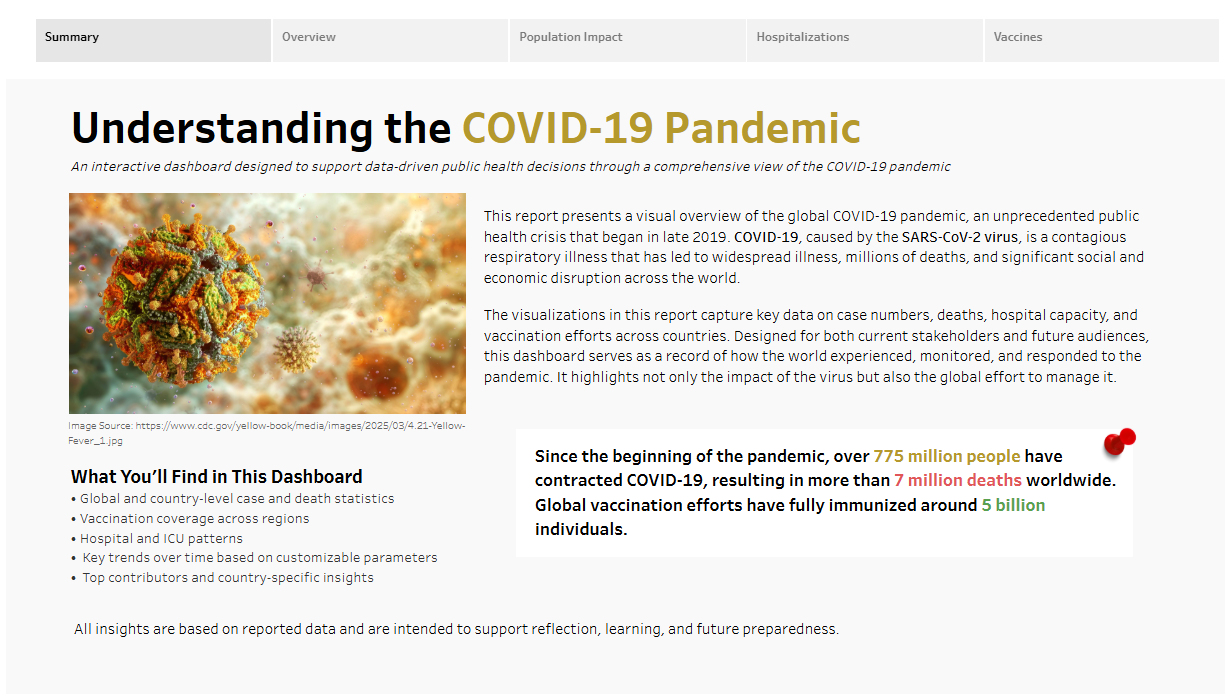

What the dashboard file says about the page in this screenshot:
{"tool":"tableau","page":{"name":"Dashboard 5","canvas":[1400,700],"ordinal":4},"visuals":[{"type":"blank","box":[8,8,1224,684]},{"type":"text","box":[87,20,1221,102]},{"type":"worksheet","title":"Sheet 25","mark":"Automatic","box":[33,33,466,233]},{"type":"text","box":[547,95,745,308]},{"type":"image","param":"Image/4.21-Yellow-Fever_1.jpg","box":[86,135,462,246]},{"type":"text","box":[604,378,657,178]},{"type":"text","box":[84,385,474,34]},{"type":"text","box":[584,398,685,18]},{"type":"text","box":[87,401,473,206]}]}

Visuals, with their boxes on the page's 1400x700 design canvas (x1, y1, x2, y2). These are canvas units, not pixel positions in the 1225x697 screenshot, which may show the page scaled, cropped or inside an application window:
blank: BBox(8, 8, 1232, 692)
text: BBox(87, 20, 1308, 122)
"Sheet 25" worksheet: BBox(33, 33, 499, 266)
text: BBox(547, 95, 1292, 403)
image: BBox(86, 135, 548, 381)
text: BBox(604, 378, 1261, 556)
text: BBox(84, 385, 558, 419)
text: BBox(584, 398, 1269, 416)
text: BBox(87, 401, 560, 607)
